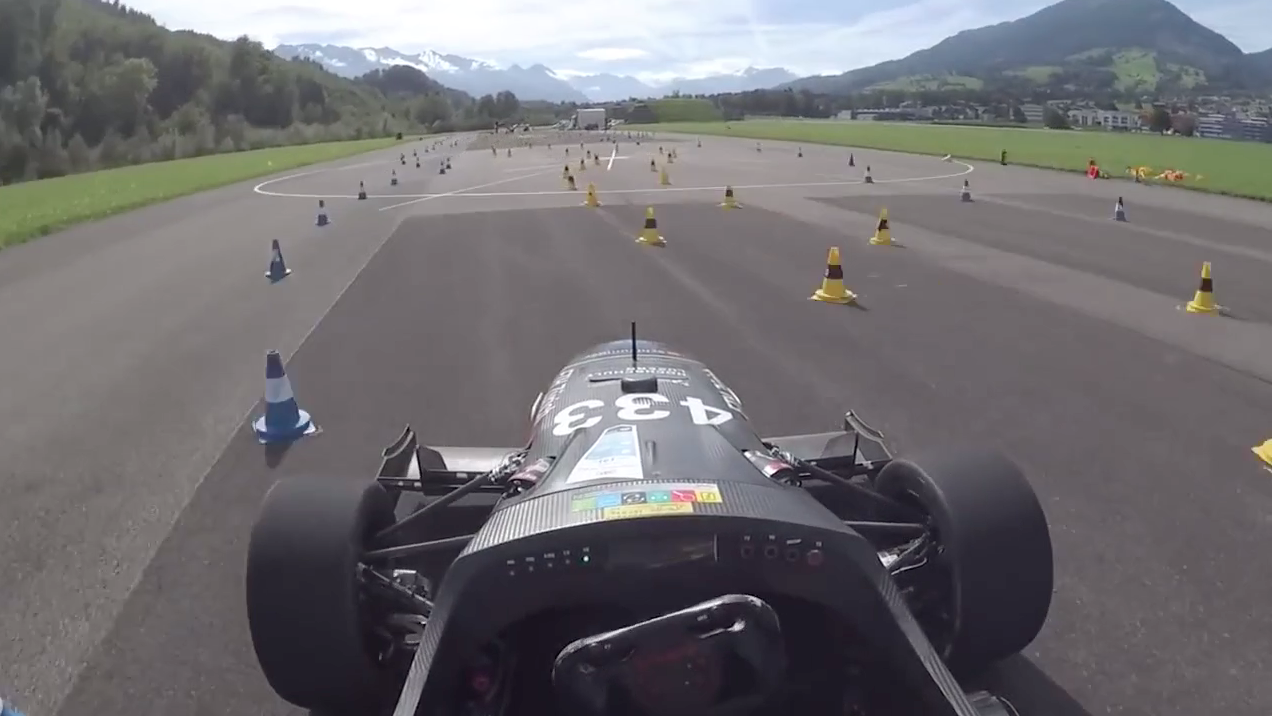lcone: (238, 343, 324, 446), (260, 233, 295, 285), (311, 195, 335, 228)
rcone: (807, 242, 860, 310), (1179, 257, 1229, 321), (631, 201, 670, 251), (867, 206, 902, 250), (580, 179, 606, 210), (718, 181, 742, 211)
